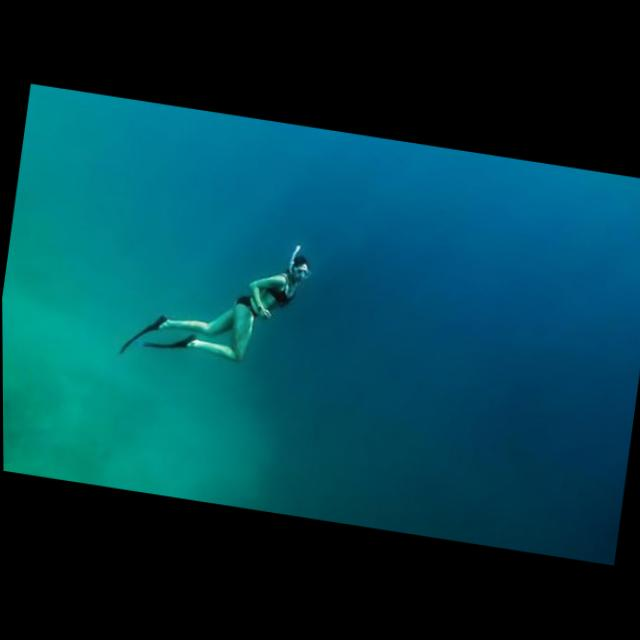human: (133, 205, 336, 391)
